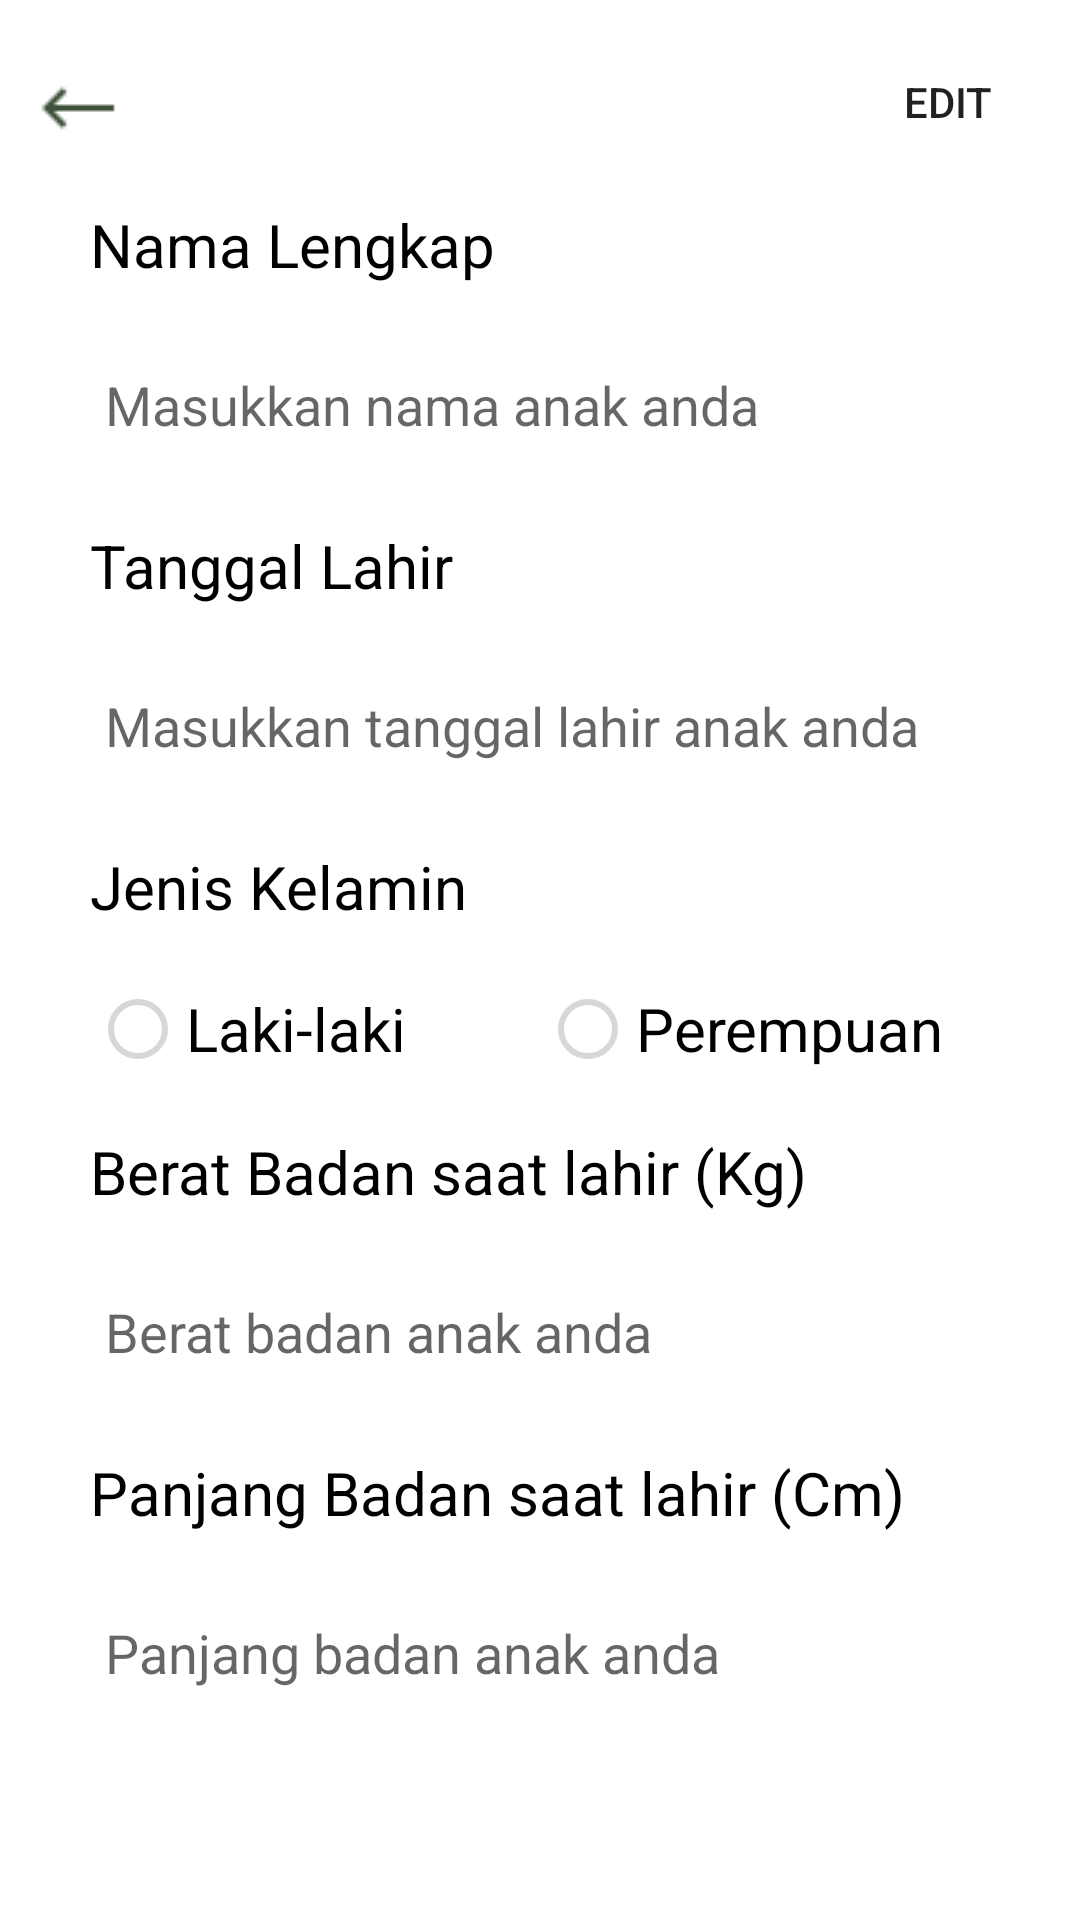

Screen size 1080*1920. Icon name, then its center in pixels as point (x, y):
left arrow: point (78, 108)
